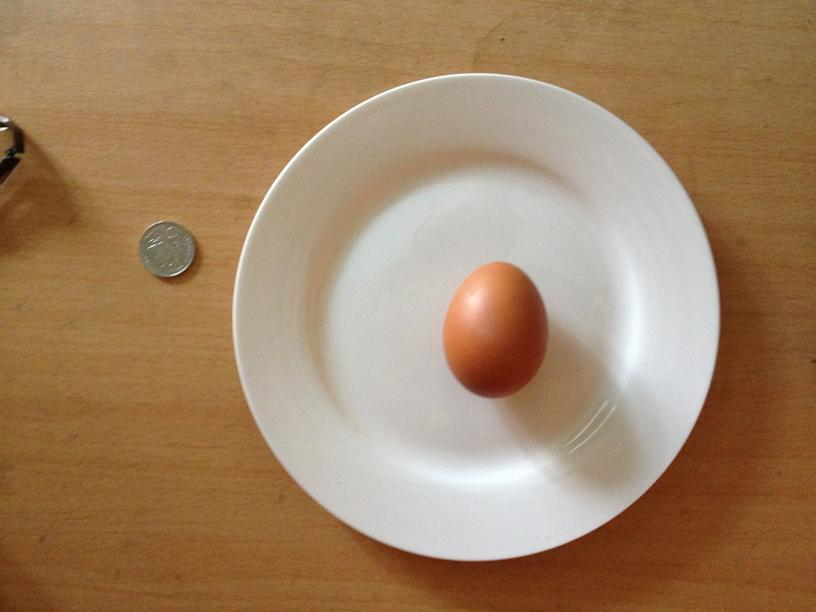coin: (139, 218, 194, 279)
egg: (442, 261, 549, 397)
